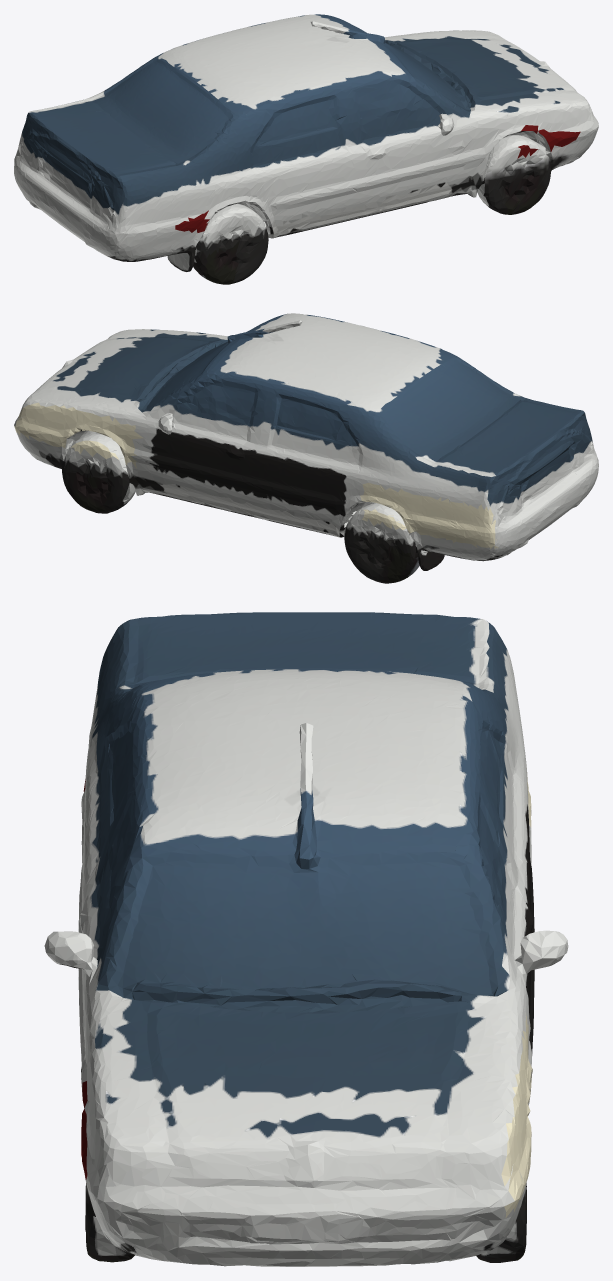
File: peugeot405.glb
3 views of the same model, one above another, from view 1: azimuth 30°, elevation 25°; view 2: azimuth 150°, elevation 25°; view 3: azimuth 270°, elevation 25° (orthographic). The views are drawn at different scales.
Visible parts, largest first — view 1: body, taillights_rear, wheel_1, wheel_3; view 2: body, headlights_front, wheel_2, wheel_0; view 3: body, headlights_front.
Part boxes in pixels (bbox=[...]): body: bbox=[14, 14, 598, 281]; taillights_rear: bbox=[175, 125, 580, 232]; wheel_1: bbox=[201, 241, 239, 284]; wheel_3: bbox=[504, 172, 543, 214]; body: bbox=[14, 313, 598, 583]; headlights_front: bbox=[14, 402, 498, 549]; wheel_2: bbox=[72, 472, 108, 513]; wheel_0: bbox=[386, 546, 419, 583]; body: bbox=[44, 612, 568, 1266]; headlights_front: bbox=[501, 764, 532, 1217].
Bounding box in the file's own units: 445 × 162 × 200.
7 materials, 1 textured.
